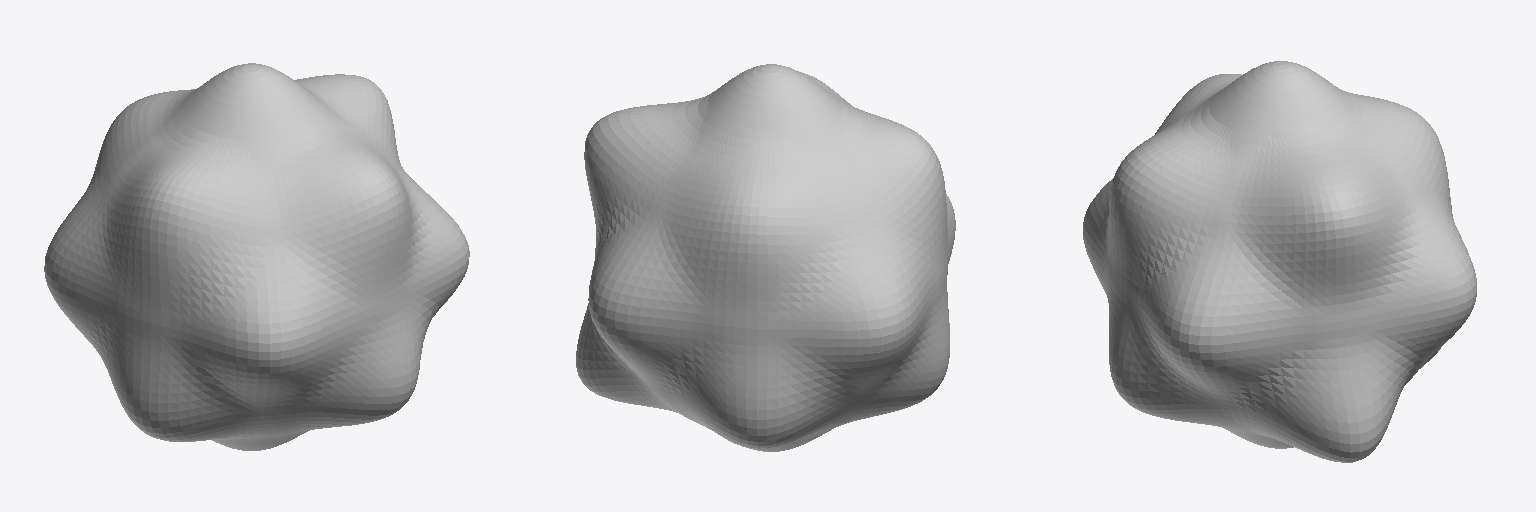
File: bak00.obj
3 views of the same model, side by side, from view 1: azimuth 30°, elevation 25°; view 2: azimuth 150°, elevation 25°; view 3: azimuth 270°, elevation 25° (orthographic).
Parts seen in each view (by area): view 1: pSphere1; view 2: pSphere1; view 3: pSphere1.
Part boxes in pixels (x1,y1,x2,y2): pSphere1: (44, 63, 469, 450); pSphere1: (576, 64, 955, 451); pSphere1: (1083, 61, 1476, 462).
Bounding box in the file's own units: 2.24 × 2.36 × 2.24.